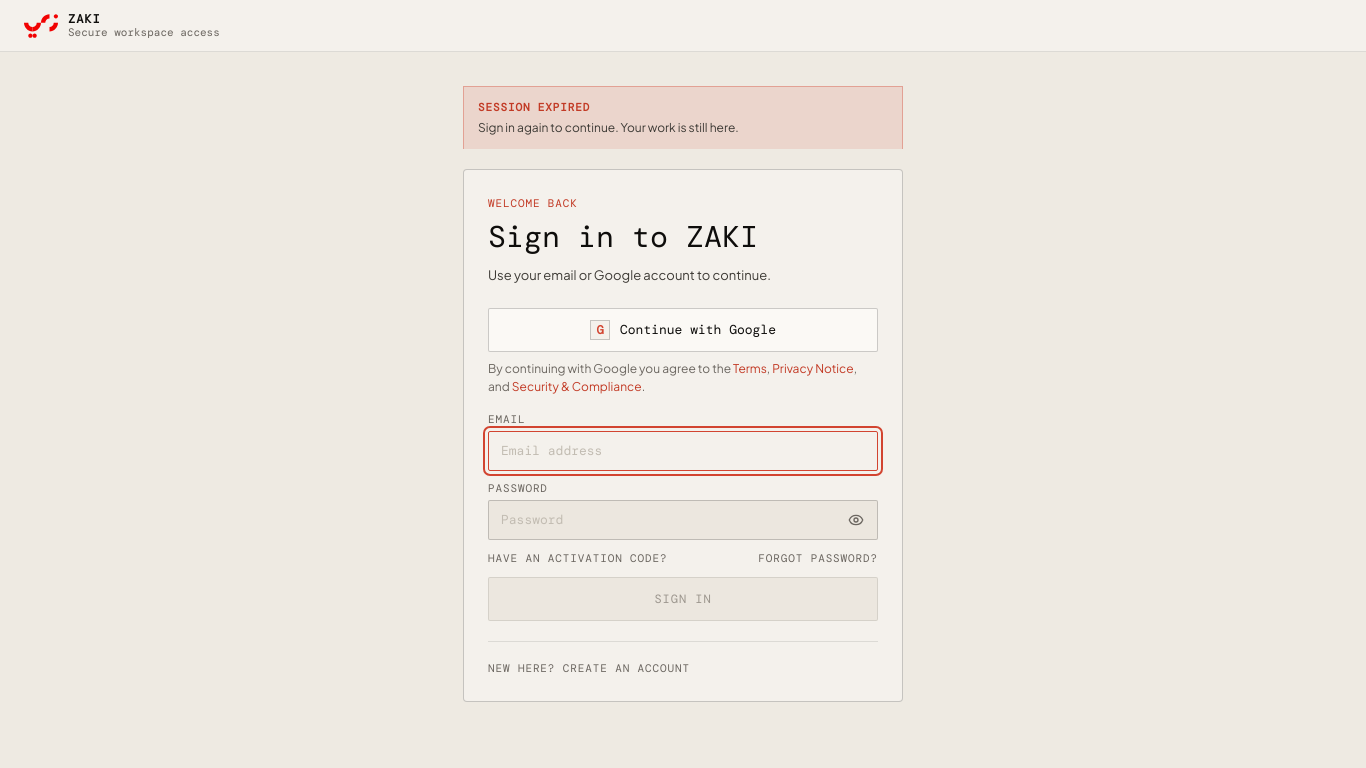
it: LoginScreen legal consent › names a blocked Google reauthentication popup without dismissing preserved work
Click the button "G Continue with Google": (683, 330) [488,308,878,352]
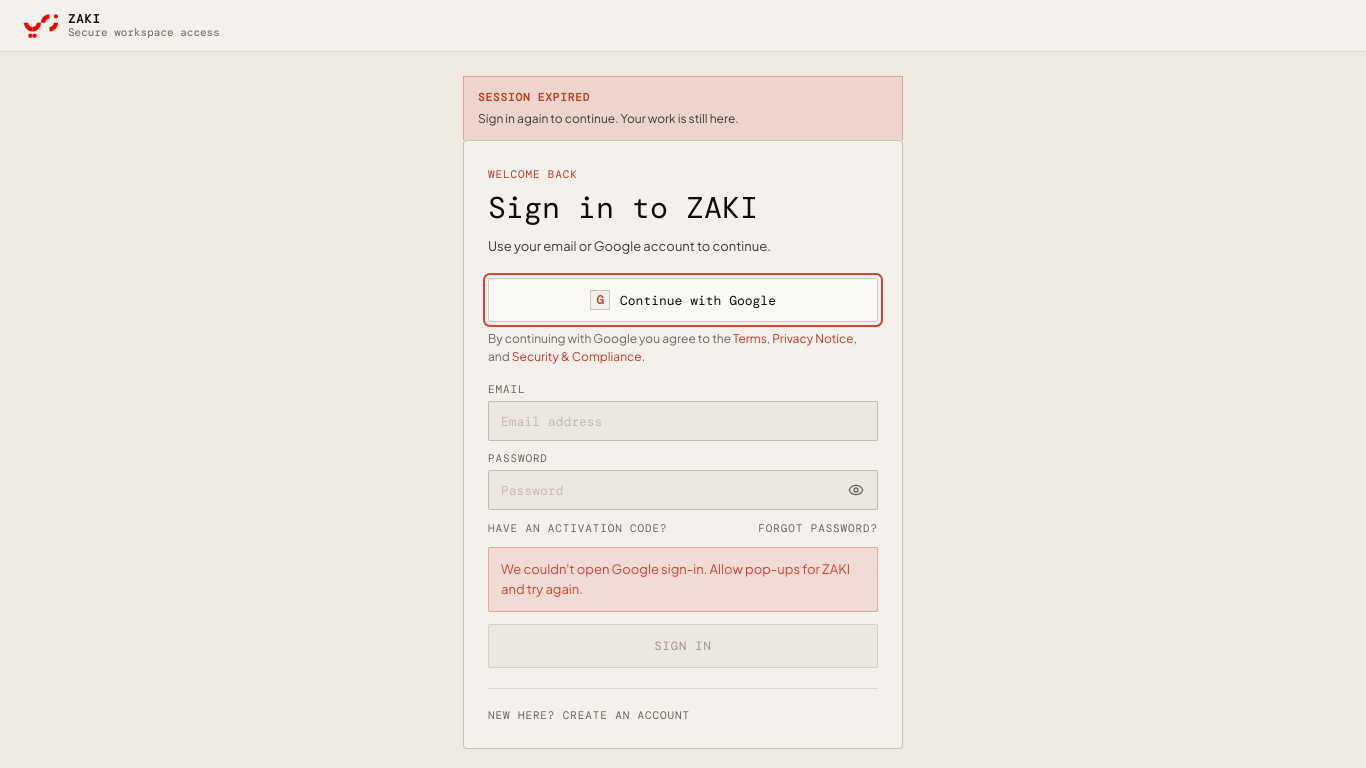
Expected: the message "We couldn't open Google sign-in. Allow pop-ups for ZAKI and try again." is shown, [488,548,878,612]
